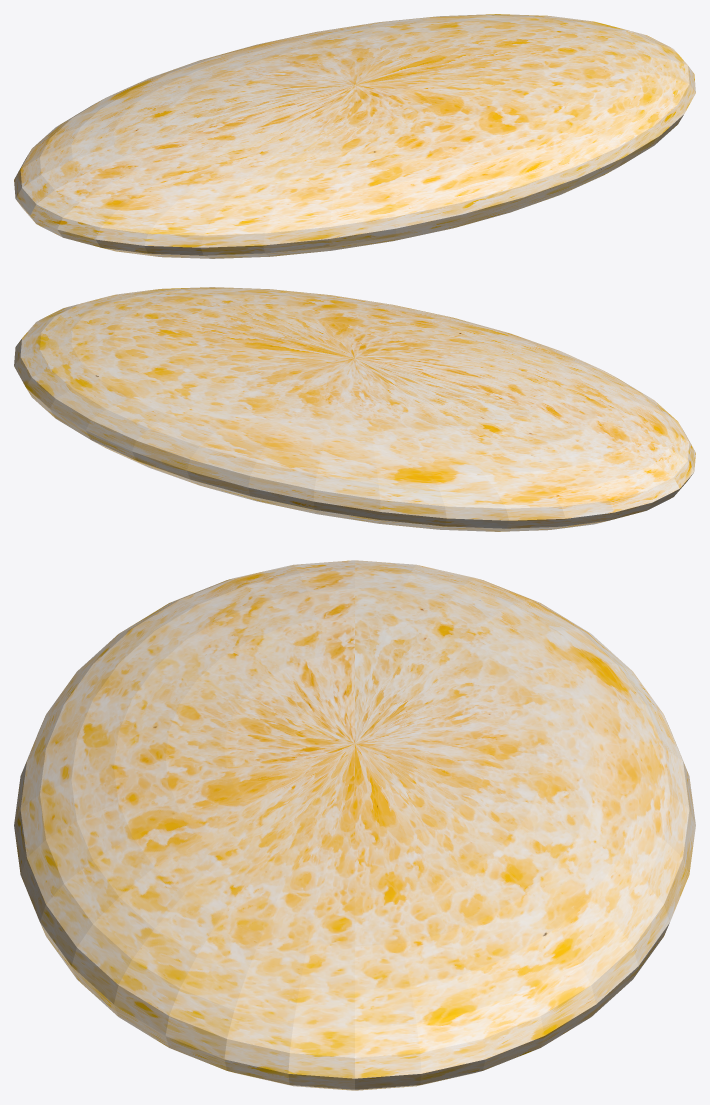
Rendered from memela-base.glb.
The picture shows the model from 3 angles, top to bottom: view 1: azimuth 30°, elevation 25°; view 2: azimuth 150°, elevation 25°; view 3: azimuth 270°, elevation 25°; orthographic projection. The views are drawn at different scales.
Parts seen in each view (by area): view 1: Sphere; view 2: Sphere; view 3: Sphere.
Part boxes in pixels (x1,y1,x2,y2): Sphere: (14, 14, 695, 258); Sphere: (14, 287, 695, 531); Sphere: (14, 560, 695, 1090).
Size of the model in its own units: 2 by 0.3014 by 1.14.
1 material, 1 textured.
